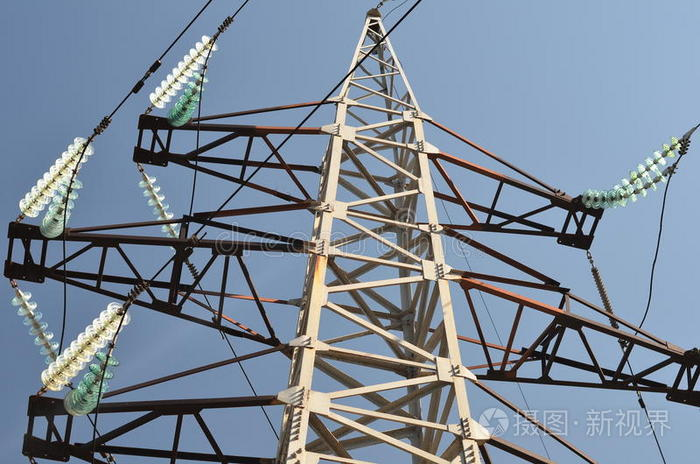insulator: (37, 304, 128, 394), (585, 136, 680, 205), (19, 135, 92, 218), (147, 37, 212, 109), (65, 353, 119, 415), (13, 290, 54, 359), (40, 176, 83, 238), (138, 174, 179, 236), (171, 77, 206, 128)
